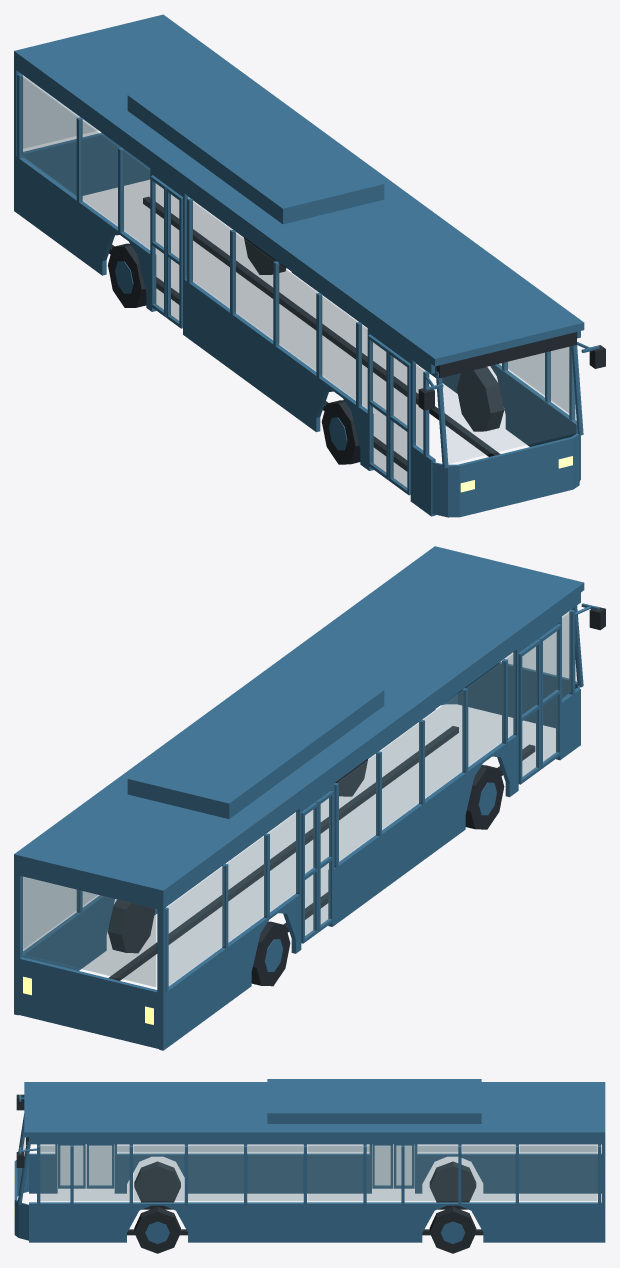
The model's file is city-bus-12m-exterior.lod1.glb.
3 renders of one model, top to bottom at view 1: azimuth 30°, elevation 25°; view 2: azimuth 150°, elevation 25°; view 3: azimuth 270°, elevation 25°, orthographic. The views are drawn at different scales.
Parts seen in each view (by area): view 1: body-shell, glass, roof-equipment, body-trim, door-right-front-b-panel, door-right-front-a-panel, wheel-front-left-tyre, door-right-rear-a-panel, door-right-rear-b-panel, wheel-front-right-tyre, wheel-rear-right-tyre, wheel-rear-left-tyre; view 2: body-shell, glass, roof-equipment, body-trim, door-right-front-a-panel, door-right-front-b-panel, door-right-rear-a-panel, door-right-rear-b-panel, wheel-rear-left-tyre, wheel-front-right-tyre, wheel-rear-right-tyre; view 3: body-shell, glass, roof-equipment, wheel-front-right-tyre, wheel-rear-right-tyre, door-right-front-a-panel, wheel-rear-left-tyre, wheel-front-left-tyre, door-right-front-b-panel, door-right-rear-b-panel, door-right-rear-a-panel, body-trim (+2 smaller).
Part boxes in pixels (x1,y1,x2,y2): body-shell: [14, 14, 599, 517]; glass: [20, 75, 577, 463]; roof-equipment: [127, 70, 384, 224]; body-trim: [109, 196, 605, 471]; door-right-front-b-panel: [388, 350, 410, 495]; door-right-front-a-panel: [368, 334, 390, 480]; wheel-front-left-tyre: [456, 367, 504, 431]; door-right-rear-a-panel: [150, 175, 168, 317]; door-right-rear-b-panel: [166, 187, 182, 328]; wheel-front-right-tyre: [321, 400, 360, 464]; wheel-rear-right-tyre: [108, 243, 146, 307]; wheel-rear-left-tyre: [244, 237, 286, 274]; body-shell: [14, 546, 599, 1050]; glass: [23, 612, 576, 986]; roof-equipment: [127, 665, 384, 818]; body-trim: [108, 606, 605, 980]; door-right-front-a-panel: [518, 639, 540, 784]; door-right-front-b-panel: [538, 624, 561, 769]; door-right-rear-a-panel: [301, 802, 318, 943]; door-right-rear-b-panel: [316, 790, 333, 932]; wheel-rear-left-tyre: [108, 899, 155, 953]; wheel-front-right-tyre: [465, 765, 504, 829]; wheel-rear-right-tyre: [251, 921, 290, 986]; body-shell: [14, 1082, 605, 1242]; glass: [20, 1134, 597, 1200]; roof-equipment: [267, 1079, 481, 1123]; wheel-front-right-tyre: [134, 1161, 180, 1202]; wheel-rear-right-tyre: [429, 1161, 476, 1202]; door-right-front-a-panel: [86, 1144, 114, 1188]; wheel-rear-left-tyre: [429, 1207, 476, 1253]; wheel-front-left-tyre: [134, 1207, 180, 1253]; door-right-front-b-panel: [58, 1144, 85, 1188]; door-right-rear-b-panel: [372, 1144, 392, 1188]; door-right-rear-a-panel: [393, 1144, 414, 1188]; body-trim: [16, 1094, 483, 1235].
Bounding box in the file's own units: 3.04 × 3.07 × 12.43.
